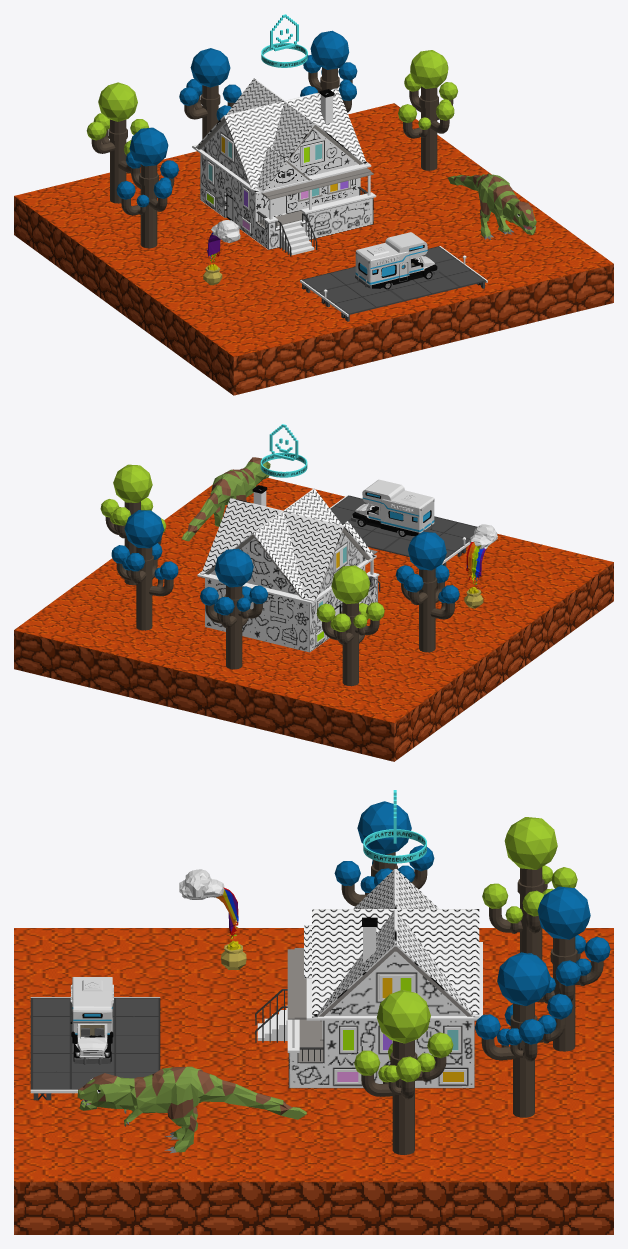
The picture shows the model from 3 angles, top to bottom: view 1: azimuth 30°, elevation 25°; view 2: azimuth 150°, elevation 25°; view 3: azimuth 270°, elevation 25°; orthographic projection. The views are drawn at different scales.
Parts seen in each view (by area): view 1: Cube.001, Cube.879, VEHICLES_CAMPER, ANIMAL_TREX, OBJRANDOM_RAINBOW, TYPE_PREMIUM; view 2: Cube.001, Cube.879, VEHICLES_CAMPER, ANIMAL_TREX, OBJRANDOM_RAINBOW, TYPE_PREMIUM; view 3: Cube.001, Cube.879, ANIMAL_TREX, VEHICLES_CAMPER, OBJRANDOM_RAINBOW, TYPE_PREMIUM.
Boxes of the visible parts, x1=… form: Cube.001: x1=14, y1=30, x2=613, y2=395; Cube.879: x1=192, y1=78, x2=376, y2=256; VEHICLES_CAMPER: x1=355, y1=232, x2=439, y2=289; ANIMAL_TREX: x1=448, y1=173, x2=536, y2=239; OBJRANDOM_RAINBOW: x1=203, y1=220, x2=240, y2=285; TYPE_PREMIUM: x1=261, y1=14, x2=307, y2=67; Cube.001: x1=14, y1=464, x2=613, y2=761; Cube.879: x1=197, y1=485, x2=380, y2=652; VEHICLES_CAMPER: x1=351, y1=479, x2=435, y2=536; ANIMAL_TREX: x1=181, y1=457, x2=270, y2=541; OBJRANDOM_RAINBOW: x1=464, y1=524, x2=497, y2=608; TYPE_PREMIUM: x1=260, y1=424, x2=307, y2=477; Cube.001: x1=14, y1=801, x2=613, y2=1234; Cube.879: x1=255, y1=869, x2=482, y2=1088; ANIMAL_TREX: x1=77, y1=1066, x2=306, y2=1153; VEHICLES_CAMPER: x1=70, y1=977, x2=113, y2=1064; OBJRANDOM_RAINBOW: x1=179, y1=869, x2=246, y2=969; TYPE_PREMIUM: x1=363, y1=790, x2=426, y2=863.
Bounding box in the file's own units: 4000 × 2413 × 4000.
45 materials, 12 textured.
